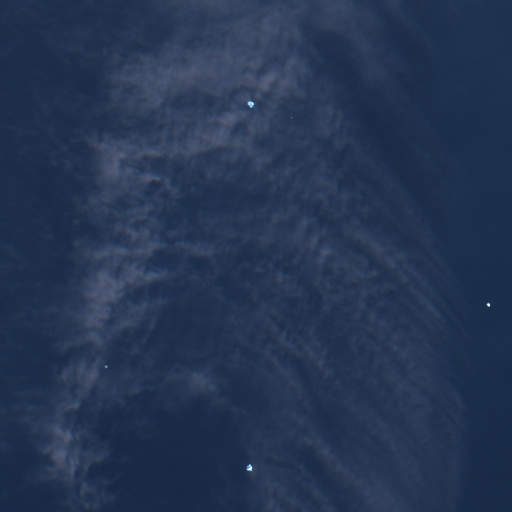Iceberg: (247, 101, 254, 107), (246, 464, 252, 471), (486, 302, 490, 306), (104, 365, 107, 367), (291, 117, 292, 118)
